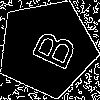B: (22, 23, 78, 73)
